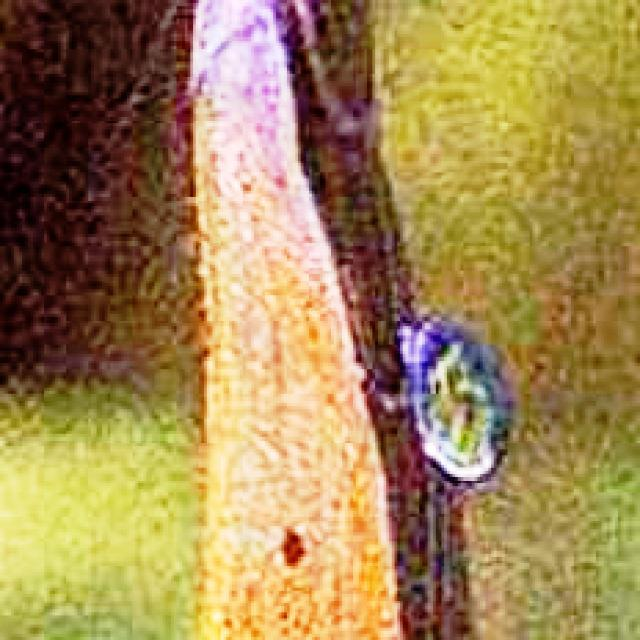stem-borer: (176, 0, 408, 640)
